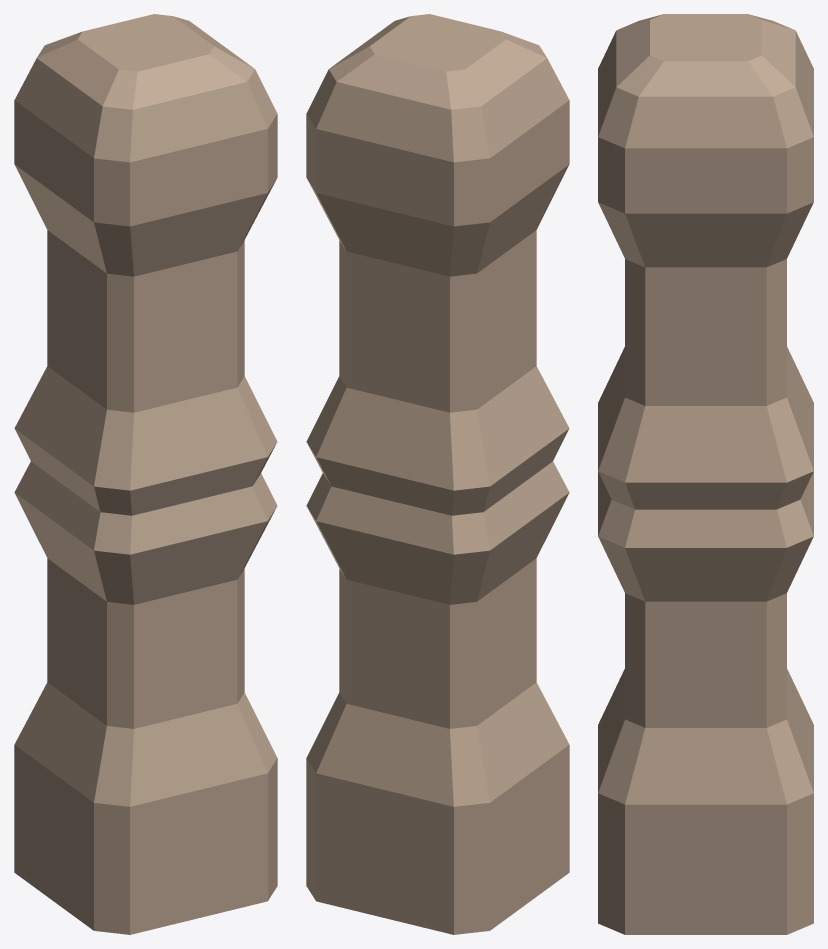
The model's file is Structure_Stairs_Railing_Post.fbx.
3 renders of one model, left to right at view 1: azimuth 30°, elevation 25°; view 2: azimuth 150°, elevation 25°; view 3: azimuth 270°, elevation 25°, orthographic.
Parts seen in each view (by area): view 1: object1.106; view 2: object1.106; view 3: object1.106.
Part boxes in pixels (box(x1,y1,x2,y2)): object1.106: box(14, 14, 277, 934); object1.106: box(306, 14, 569, 934); object1.106: box(598, 14, 813, 934).
Size of the model in its own units: 15 by 65.31 by 15.
